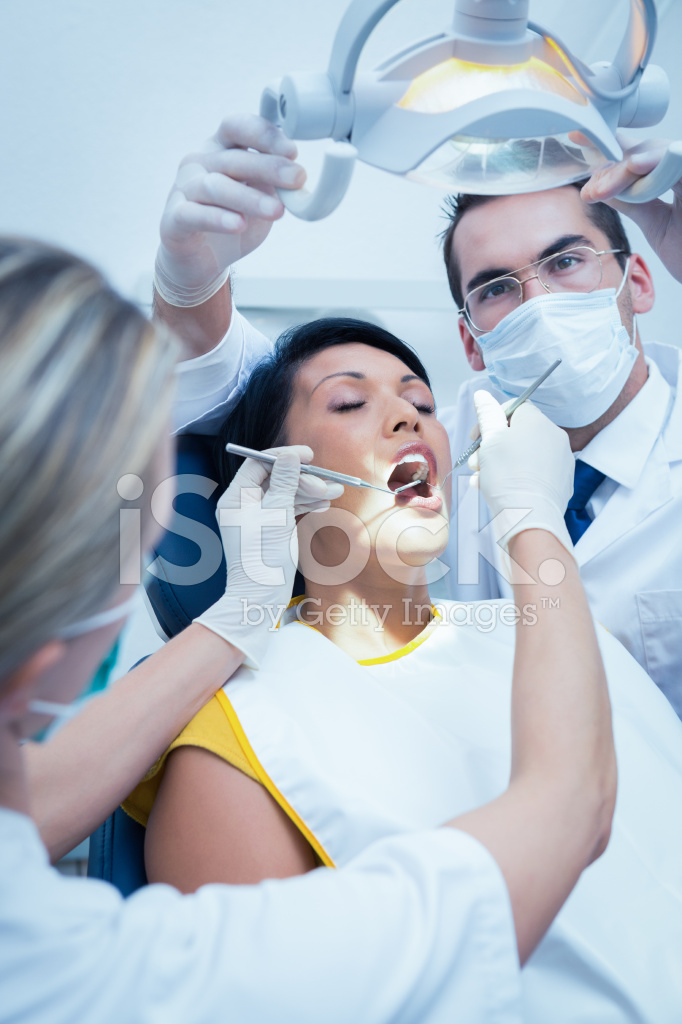mask: (483, 287, 640, 428)
